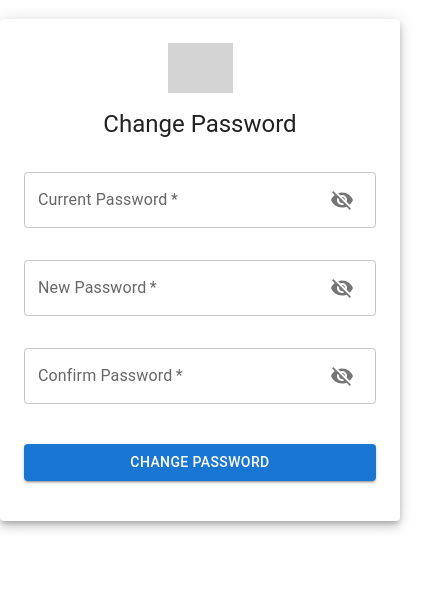
Scenario: ChangePasswordPage › shows error if new password is less than 8 characters
Type "oldpass123" into the password field labelled "Current Password *" at (169, 200), box [24,172,314,228]
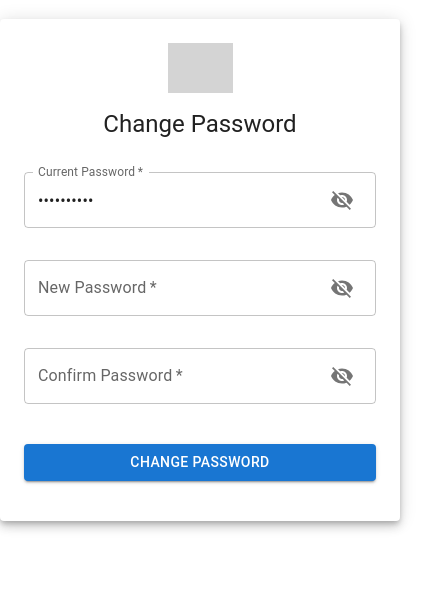
Type "short" into the password field labelled "New Password *" at (169, 288), box [24,260,314,316]
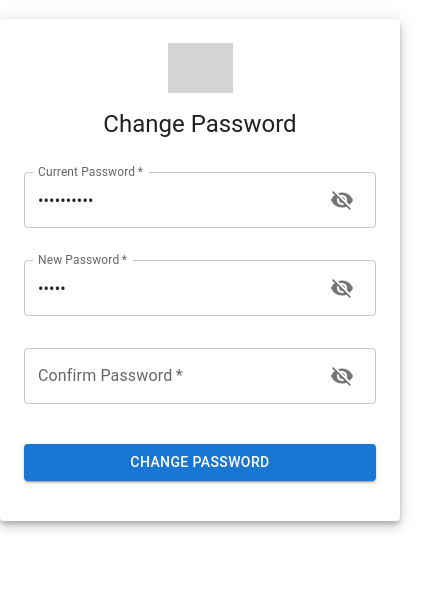
Type "short" into the password field labelled "Confirm Password *" at (169, 376), box [24,348,314,404]
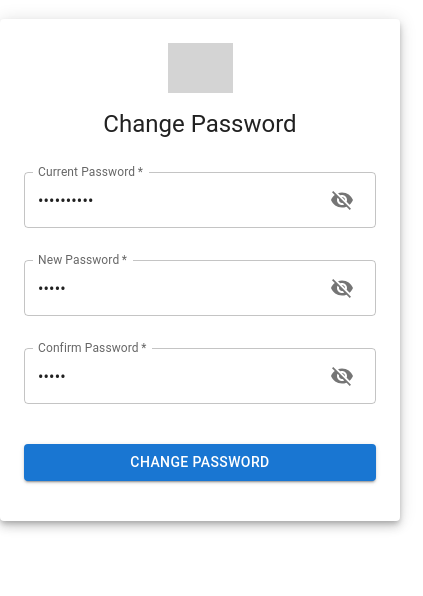
Click the button "Change Password" at (200, 462), box [24,444,376,480]
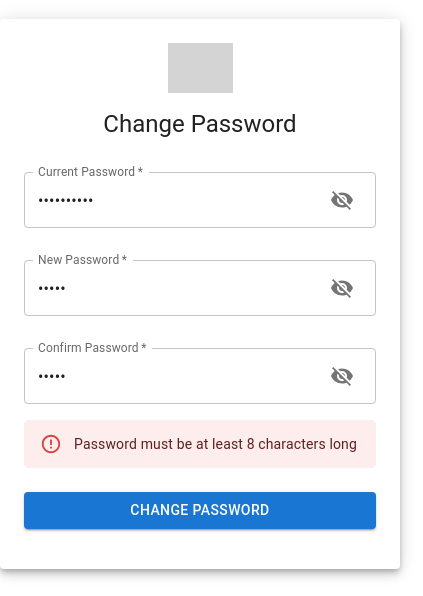
Check: the text "Password must be at least 8 characters long" is shown, box [74,436,357,452]
